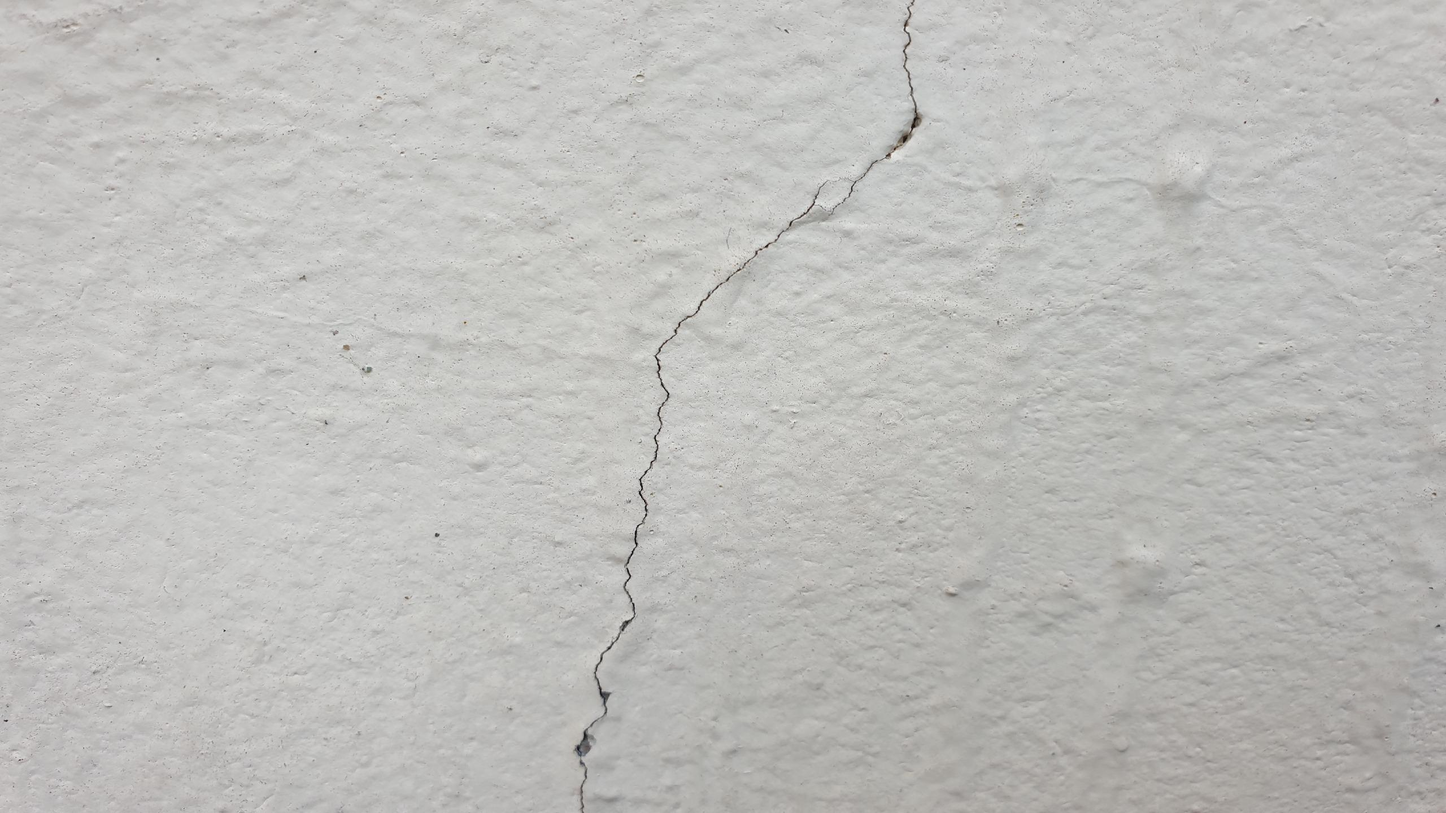crack: (572, 177, 831, 811), (832, 0, 921, 216)
